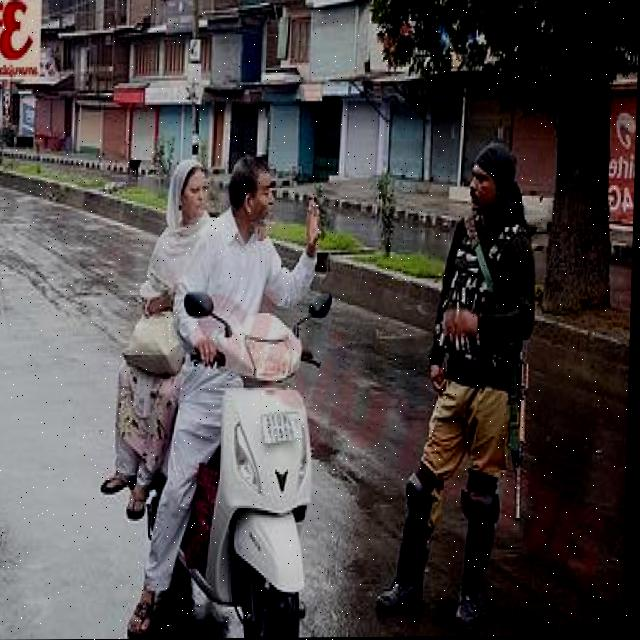plate: (259, 404, 308, 449)
